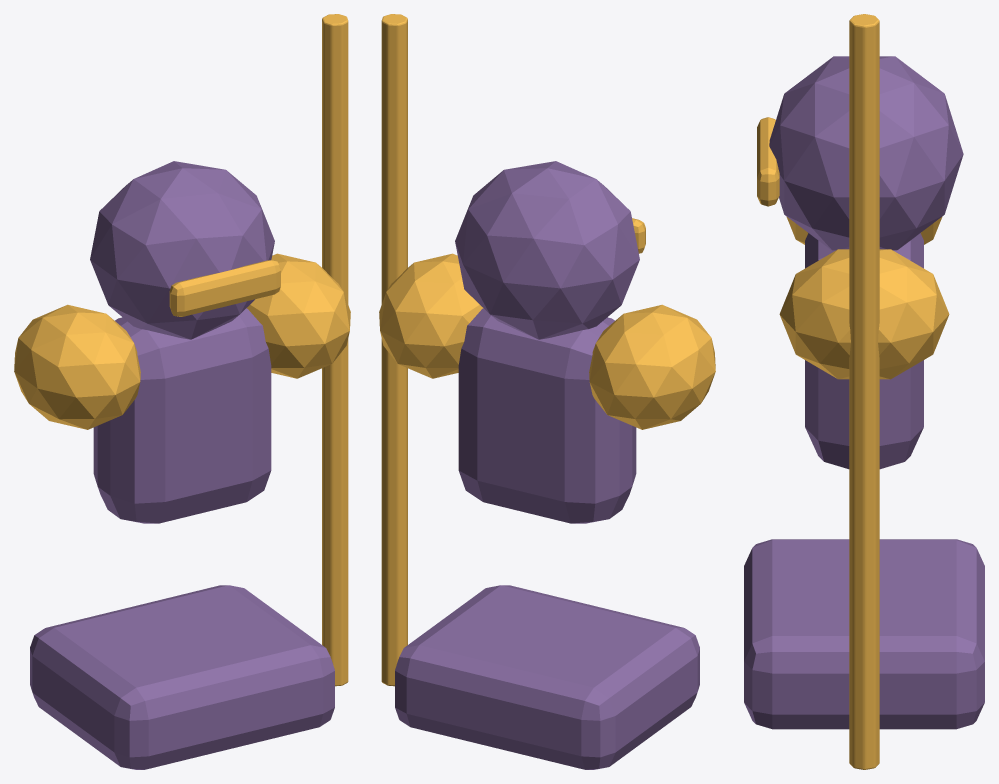
File: armor.glb
3 views of the same model, side by side, from view 1: azimuth 30°, elevation 25°; view 2: azimuth 150°, elevation 25°; view 3: azimuth 270°, elevation 25° (orthographic). The views are drawn at different scales.
Visible parts, largest first — view 1: ArmorDisplayMesh; view 2: ArmorDisplayMesh; view 3: ArmorDisplayMesh.
Boxes of the visible parts, <box> form: ArmorDisplayMesh: <box>14,14,350,769</box>; ArmorDisplayMesh: <box>379,14,715,769</box>; ArmorDisplayMesh: <box>744,14,984,769</box>.
Size of the model in its own units: 1.47 by 2.9 by 0.85.
